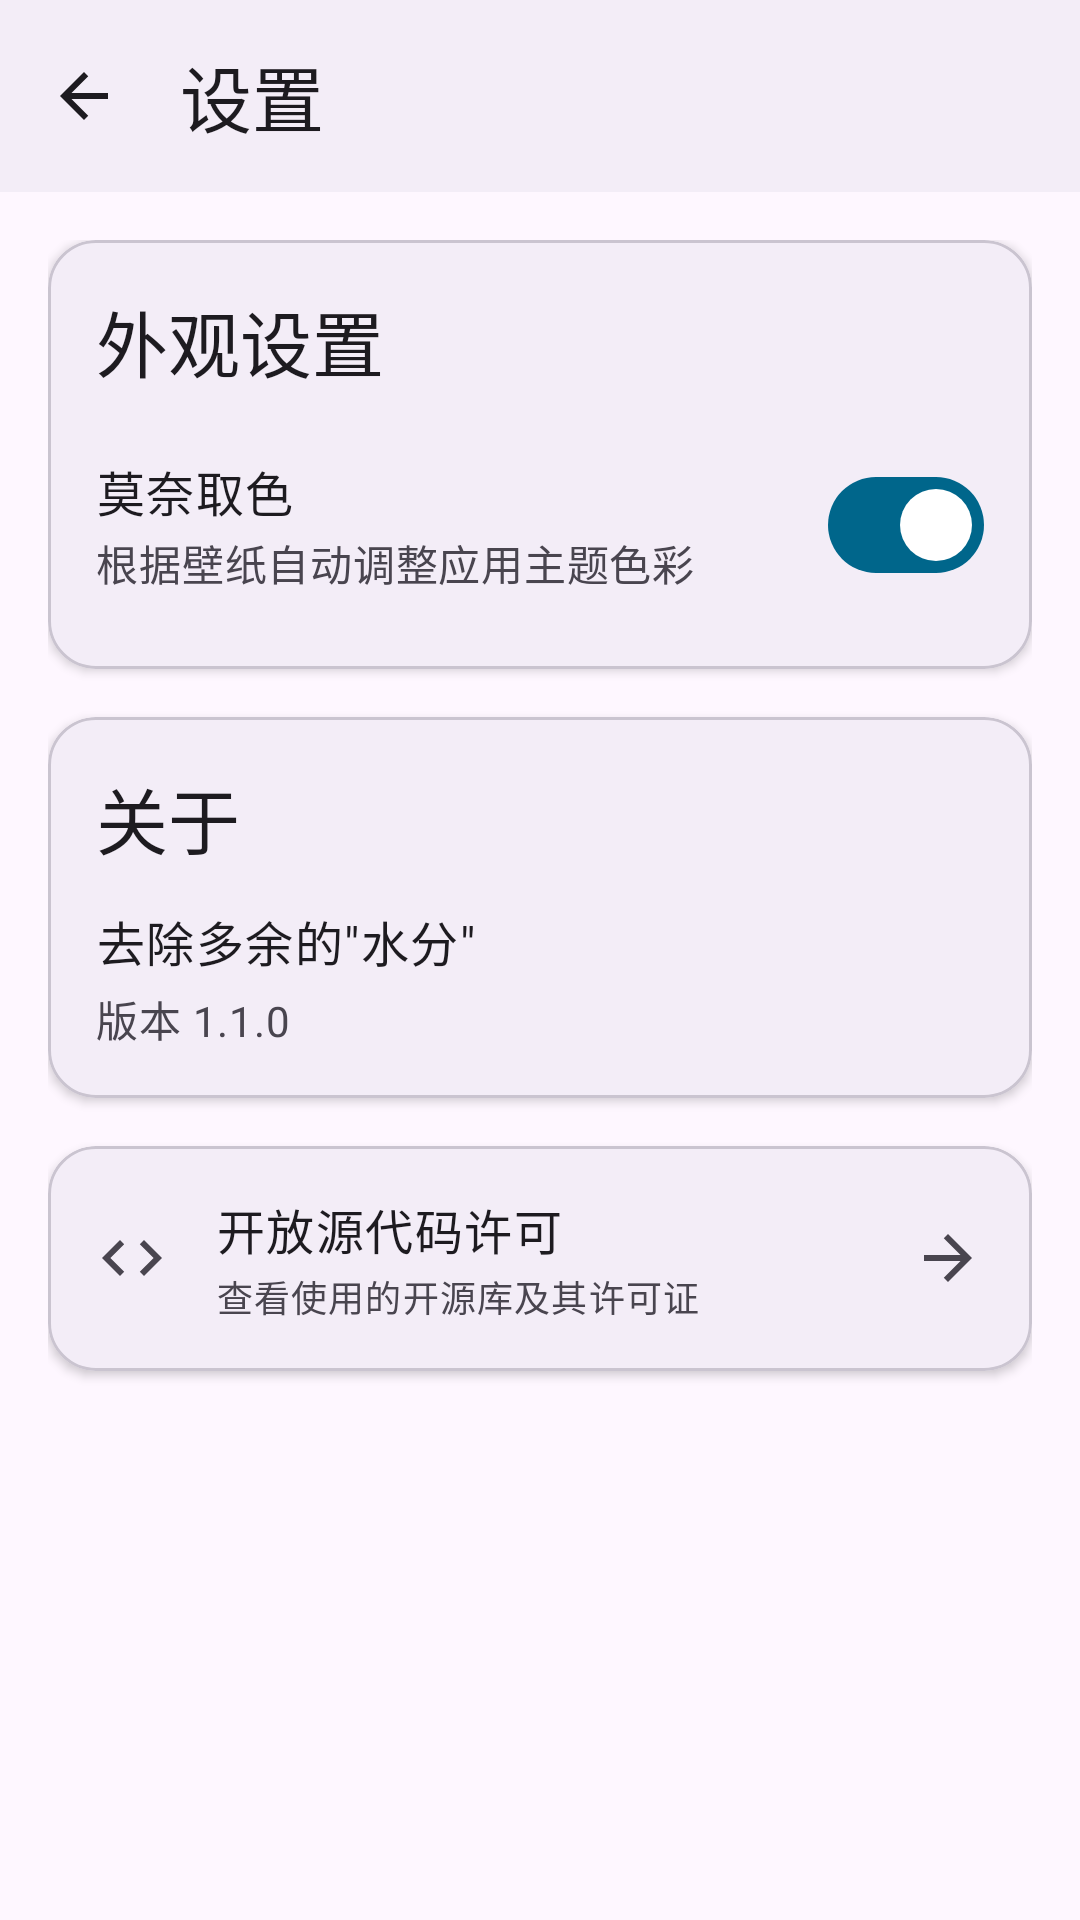

Screen size 1080w x 1920h. Icon name, then its box in pixels as box=[x1, y1, x2, y2]:
前往: box=[924, 1234, 972, 1282]
开源许可证图标: box=[102, 1240, 162, 1276]
